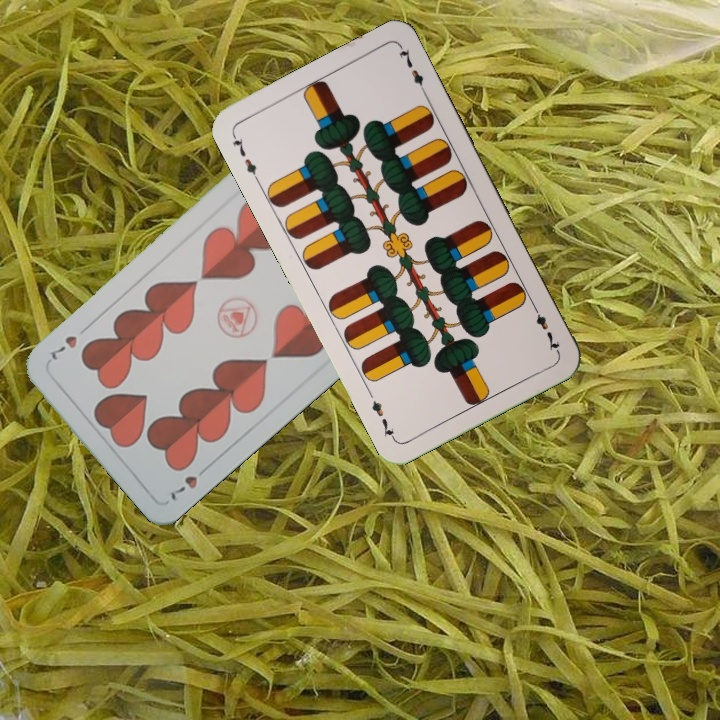E7: (528, 300, 562, 355), (228, 130, 262, 185)
H7: (164, 461, 213, 505)
